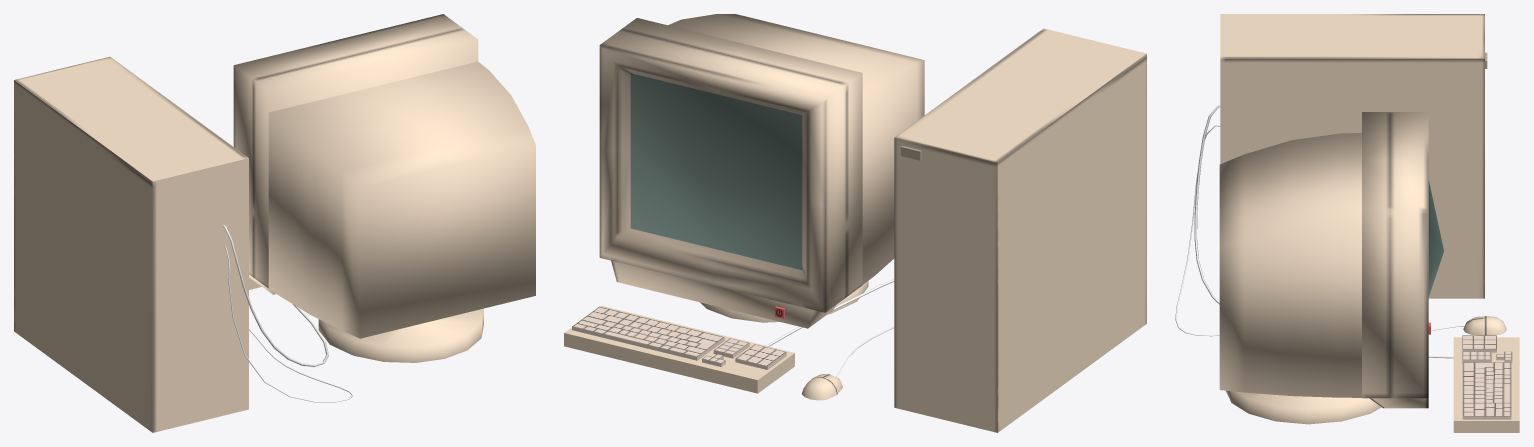
The picture shows the model from 3 angles, left to right: view 1: azimuth 30°, elevation 25°; view 2: azimuth 150°, elevation 25°; view 3: azimuth 270°, elevation 25°; orthographic projection. The views are drawn at different scales.
Parts seen in each view (by area): view 1: PC; view 2: PC; view 3: PC.
Part boxes in pixels (x1,y1,x2,y2): PC: [14, 14, 535, 432]; PC: [564, 14, 1146, 432]; PC: [1175, 14, 1519, 432].
Bounding box in the file's own units: 126 × 75.86 × 98.79.
